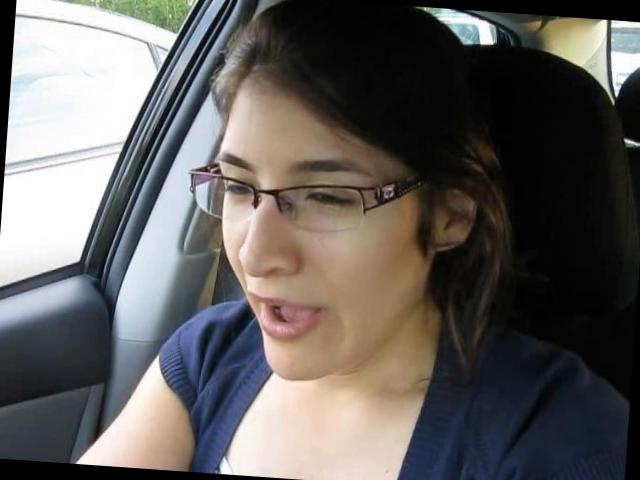eye_open: (294, 183, 362, 220), (220, 174, 259, 209)
face: (203, 119, 420, 388)
mouth_open: (238, 282, 337, 344)
